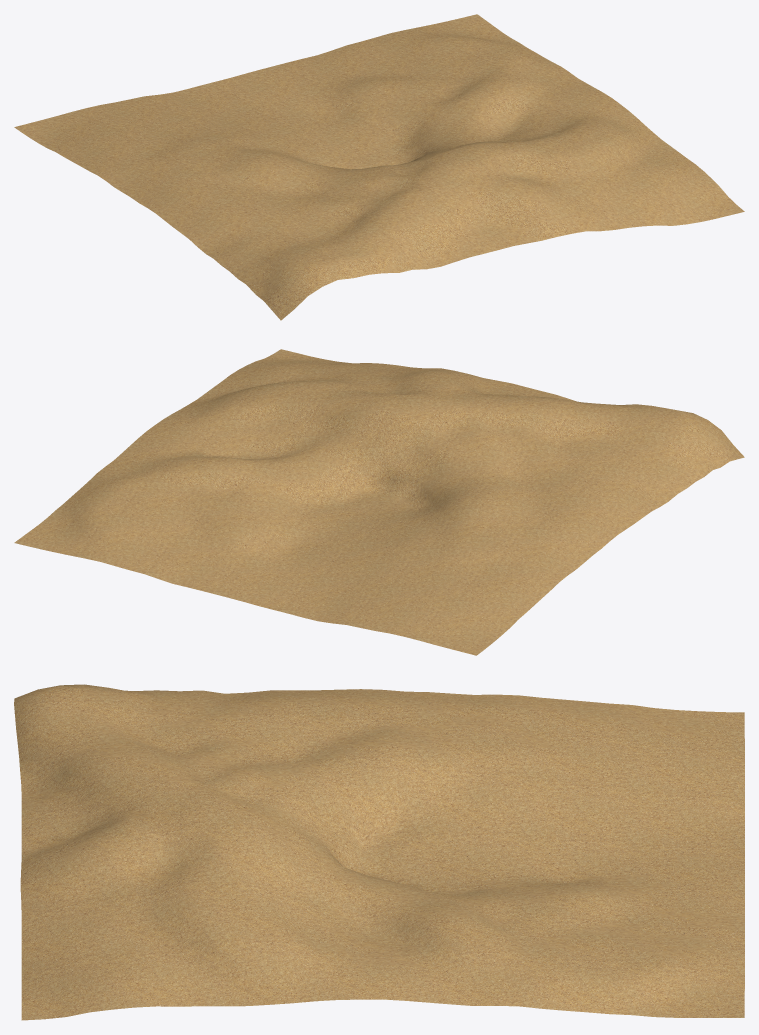
The model's file is land.obj.
3 views of the same model, one above another, from view 1: azimuth 30°, elevation 25°; view 2: azimuth 150°, elevation 25°; view 3: azimuth 270°, elevation 25° (orthographic). The views are drawn at different scales.
Visible parts, largest first — view 1: Plane; view 2: Plane; view 3: Plane.
Part boxes in pixels (<box>): Plane: <box>14,14,744,320</box>; Plane: <box>14,349,744,655</box>; Plane: <box>14,684,744,1020</box>.
Size of the model in its own units: 805 by 89.11 by 809.
